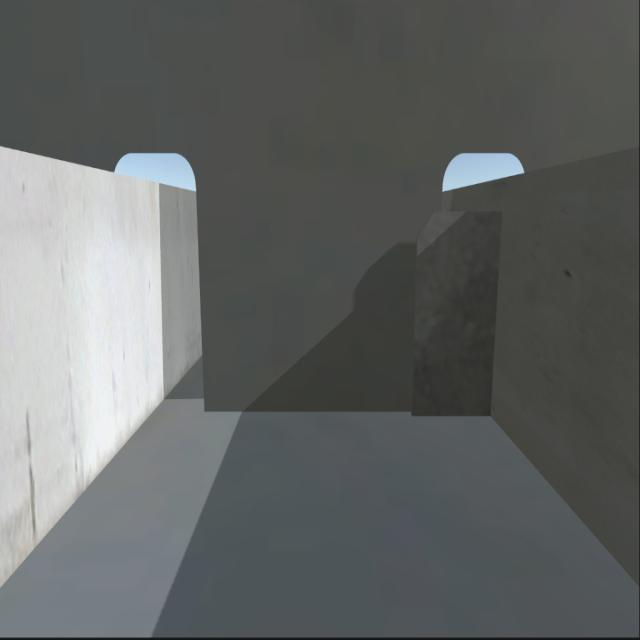fillet_yong_jeop_jang: (194, 400, 486, 420)
longi_yong_jeop_jang: (484, 216, 506, 420)
plate_CP03: (412, 206, 501, 416)
